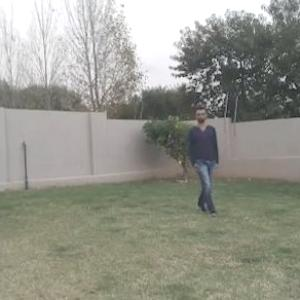follow: (193, 110, 220, 216)
